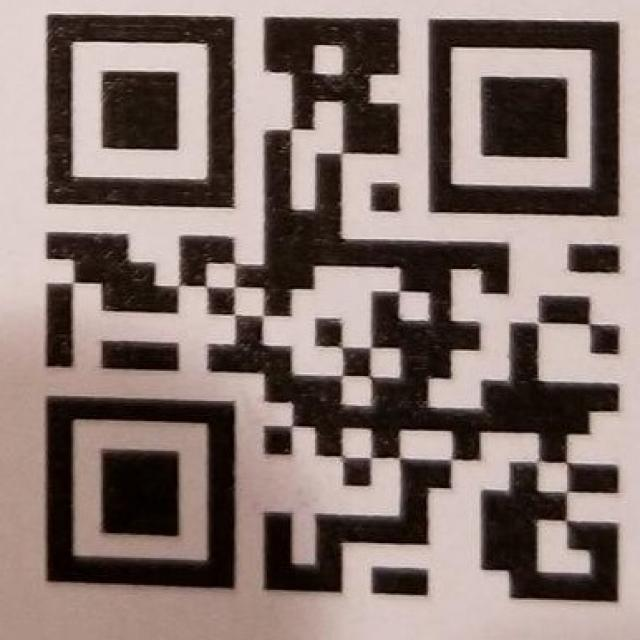QR_CODE: (41, 12, 621, 605)
